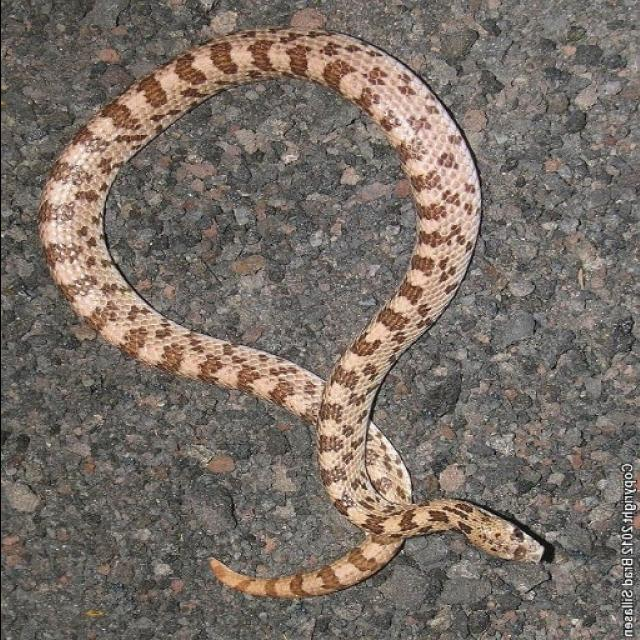snake: (32, 25, 580, 615)
